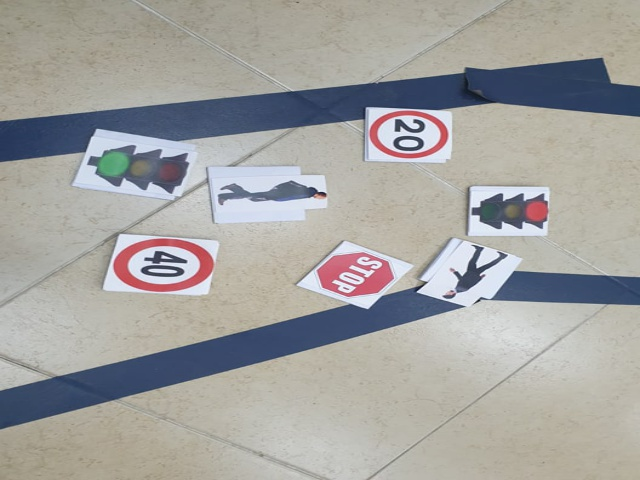Green: (85, 142, 188, 195)
Limit 20: (368, 110, 452, 157)
Limit 40: (114, 239, 212, 293)
Person: (216, 177, 327, 209), (449, 245, 506, 307)
Red: (470, 190, 551, 237)
Stop: (314, 253, 391, 303)
